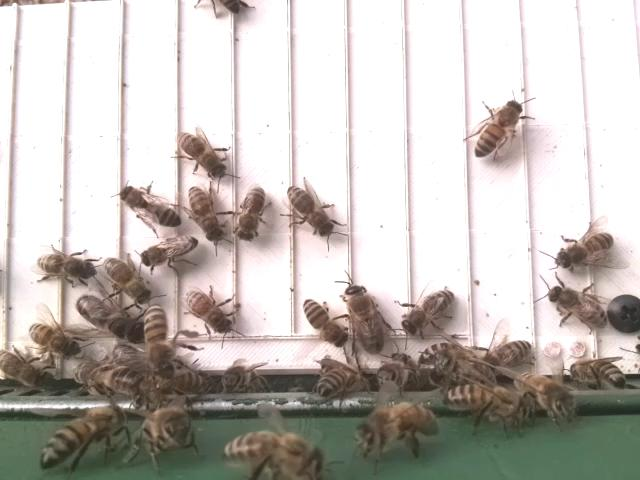Drone: (73, 291, 147, 347), (341, 281, 390, 358)
Worker: (470, 97, 526, 161), (116, 182, 185, 233), (542, 282, 607, 331), (284, 182, 337, 241), (182, 287, 241, 337), (175, 128, 229, 180), (553, 230, 618, 271), (186, 184, 227, 248), (33, 244, 97, 283), (102, 256, 155, 303), (402, 289, 456, 335), (301, 295, 346, 347), (25, 319, 82, 360), (144, 303, 175, 378), (138, 231, 198, 269), (231, 183, 268, 244), (476, 336, 534, 371)
